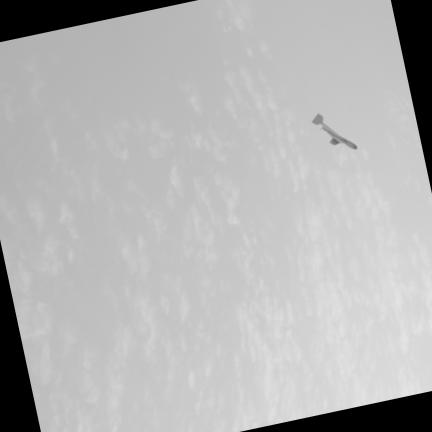Shahed: (312, 114, 357, 147)
